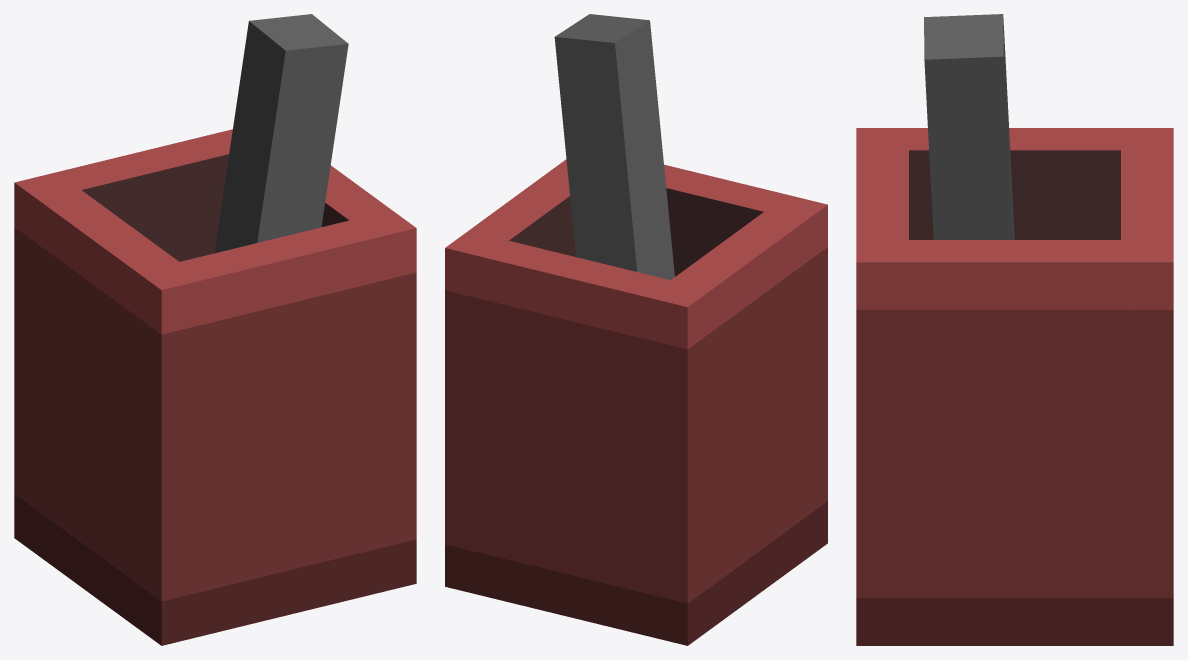
The model's file is Organizier_03.fbx.
The picture shows the model from 3 angles, left to right: view 1: azimuth 30°, elevation 25°; view 2: azimuth 150°, elevation 25°; view 3: azimuth 270°, elevation 25°; orthographic projection. The views are drawn at different scales.
Visible parts, largest first — view 1: mesh, cube; view 2: mesh, cube; view 3: mesh, cube.
Boxes of the visible parts, <box> form: mesh: <box>14,129,416,645</box>; cube: <box>214,14,348,253</box>; mesh: <box>445,159,827,645</box>; cube: <box>554,14,674,279</box>; mesh: <box>856,128,1173,645</box>; cube: <box>924,14,1014,239</box>.
Size of the model in its own units: 18.75 by 37.76 by 18.75.
Materials: 1 (1 with a texture image).
